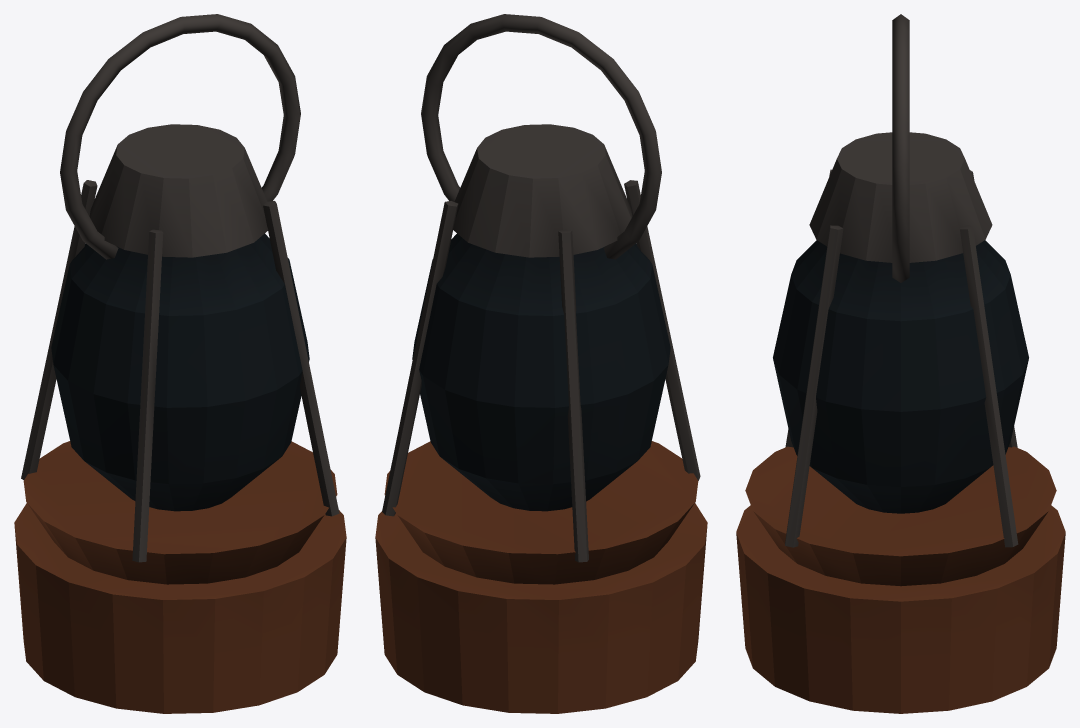
Rendered from az-lamp.glb.
3 views of the same model, side by side, from view 1: azimuth 30°, elevation 25°; view 2: azimuth 150°, elevation 25°; view 3: azimuth 270°, elevation 25° (orthographic).
Parts seen in each view (by area): view 1: az-lamp_az_rust, az-lamp_az_glass, az-lamp_az_iron; view 2: az-lamp_az_rust, az-lamp_az_glass, az-lamp_az_iron; view 3: az-lamp_az_rust, az-lamp_az_glass, az-lamp_az_iron.
Boxes of the visible parts, x1=… form: az-lamp_az_rust: x1=14, y1=441, x2=346, y2=713; az-lamp_az_glass: x1=51, y1=233, x2=309, y2=511; az-lamp_az_iron: x1=21, y1=14, x2=339, y2=562; az-lamp_az_rust: x1=375, y1=441, x2=707, y2=713; az-lamp_az_glass: x1=412, y1=233, x2=670, y2=511; az-lamp_az_iron: x1=382, y1=14, x2=700, y2=562; az-lamp_az_rust: x1=736, y1=446, x2=1065, y2=713; az-lamp_az_glass: x1=773, y1=240, x2=1028, y2=513; az-lamp_az_iron: x1=785, y1=14, x2=1018, y2=547.
Bounding box in the file's own units: 0.18 × 0.375 × 0.18.
